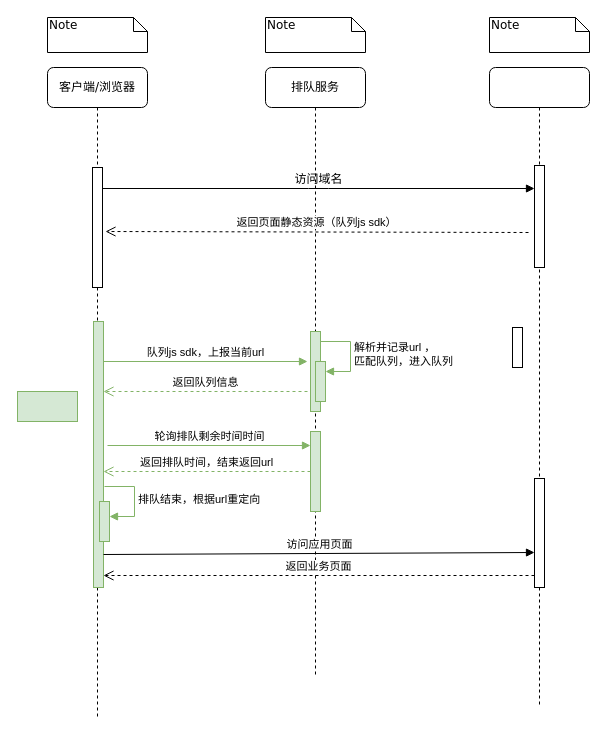
Image size: 607x735. Some labels were removed from this diagram. Here are the shapes that lost their labels. From the top down, the box of each, then its label:
(16, 390, 78, 422): 队列服务 js逻辑部分
(488, 66, 590, 706): 应用服务
